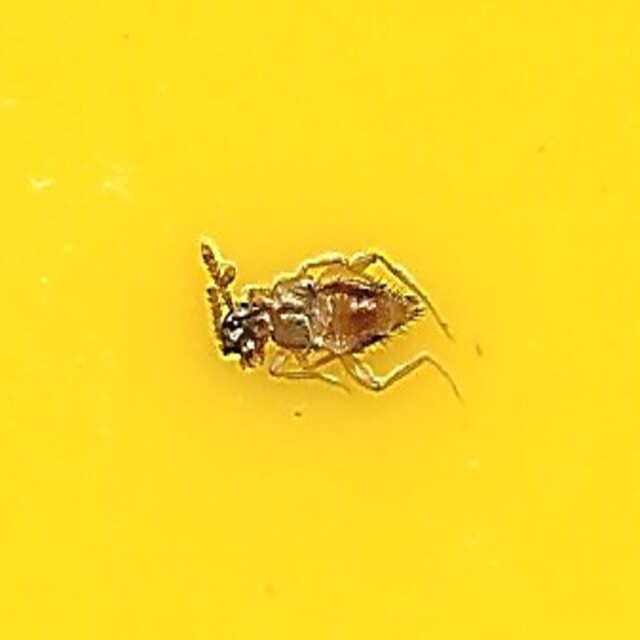Coleoptera: (190, 231, 450, 409)
